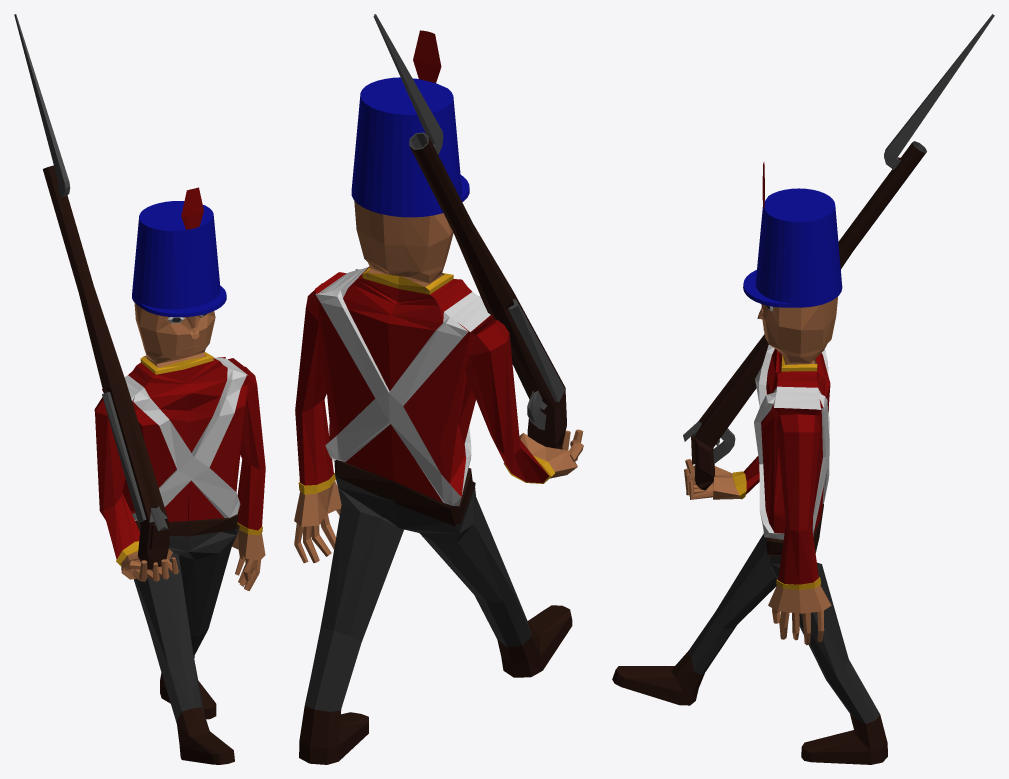
File: Infantry_000019.obj
The picture shows the model from 3 angles, left to right: view 1: azimuth 30°, elevation 25°; view 2: azimuth 150°, elevation 25°; view 3: azimuth 270°, elevation 25°; orthographic projection. The views are drawn at different scales.
Visible parts, largest first — view 1: {Man}_Circle, {Mesket}_Cube.001; view 2: {Man}_Circle, {Mesket}_Cube.001; view 3: {Man}_Circle, {Mesket}_Cube.001.
Boxes of the visible parts, x1,y1,x2,y2 form: {Man}_Circle: (94, 187, 265, 764); {Mesket}_Cube.001: (14, 14, 169, 569); {Man}_Circle: (294, 30, 583, 764); {Mesket}_Cube.001: (373, 14, 566, 449); {Man}_Circle: (612, 162, 887, 764); {Mesket}_Cube.001: (683, 14, 994, 490).
Size of the model in its own units: 5.63 by 19.4 by 9.73.
